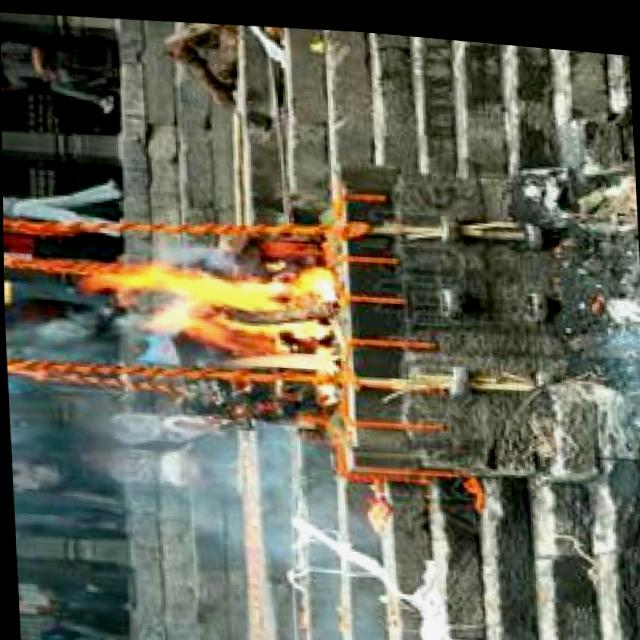helmet: (83, 247, 341, 381)
